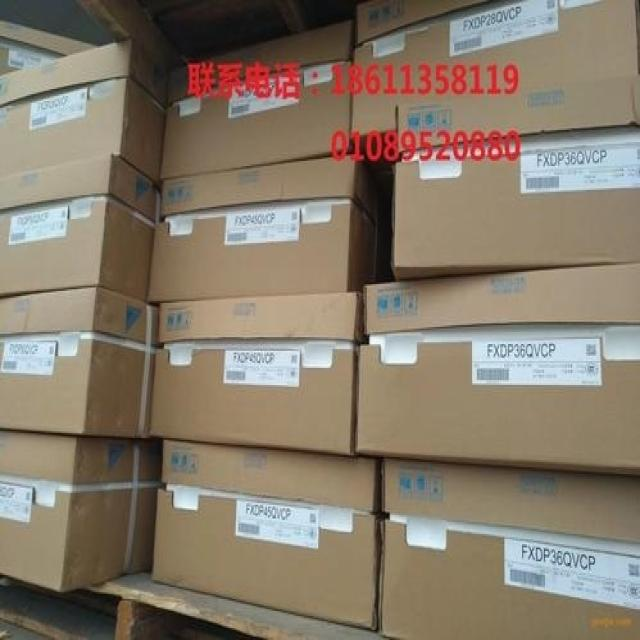box: (354, 264, 639, 471), (394, 80, 639, 281), (381, 459, 640, 637), (153, 441, 377, 630), (351, 0, 639, 140), (150, 293, 360, 457), (0, 430, 163, 590), (146, 195, 368, 303), (0, 286, 156, 436), (162, 58, 351, 178), (0, 195, 156, 299), (160, 154, 354, 216)
